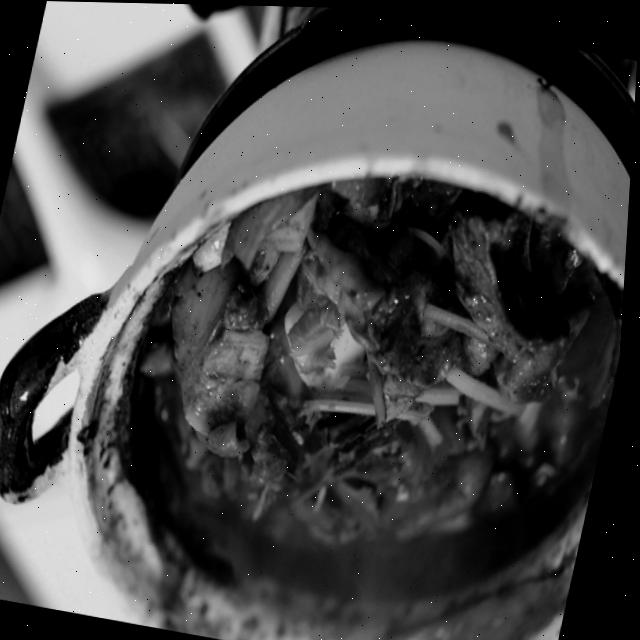汤锅炖物: (54, 116, 635, 640)
